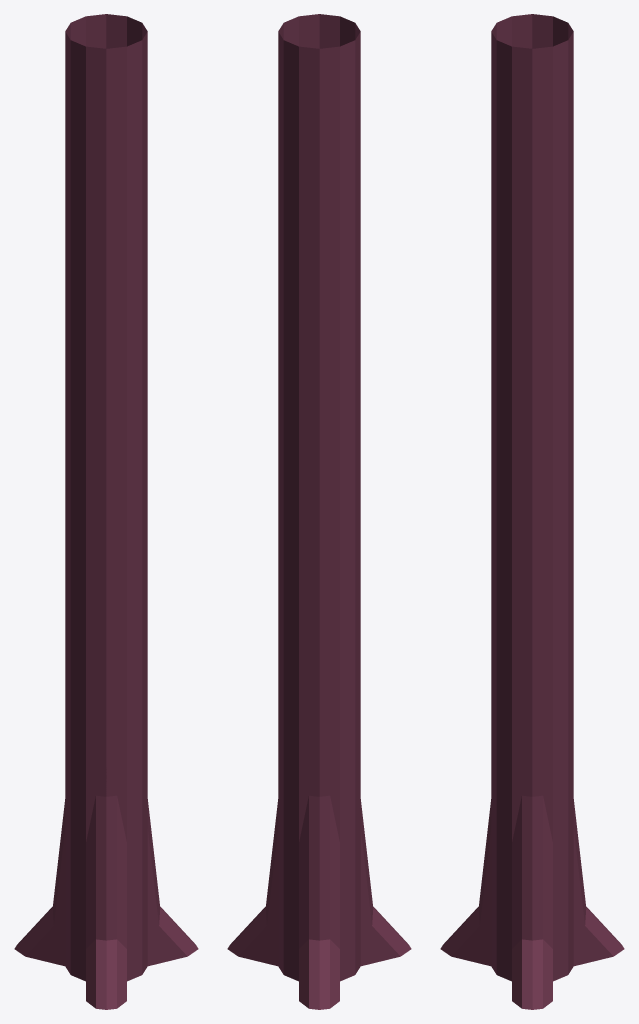
Rendered from tree2.fbx.
3 renders of one model, left to right at view 1: azimuth 30°, elevation 25°; view 2: azimuth 150°, elevation 25°; view 3: azimuth 270°, elevation 25°, orthographic.
Parts seen in each view (by area): view 1: Cylinder.001; view 2: Cylinder.001; view 3: Cylinder.001.
Boxes of the visible parts, x1,y1,x2,y2 form: Cylinder.001: [14, 14, 198, 1009]; Cylinder.001: [227, 14, 411, 1009]; Cylinder.001: [440, 14, 624, 1009].
Bounding box in the file's own units: 394 × 2500 × 447.
